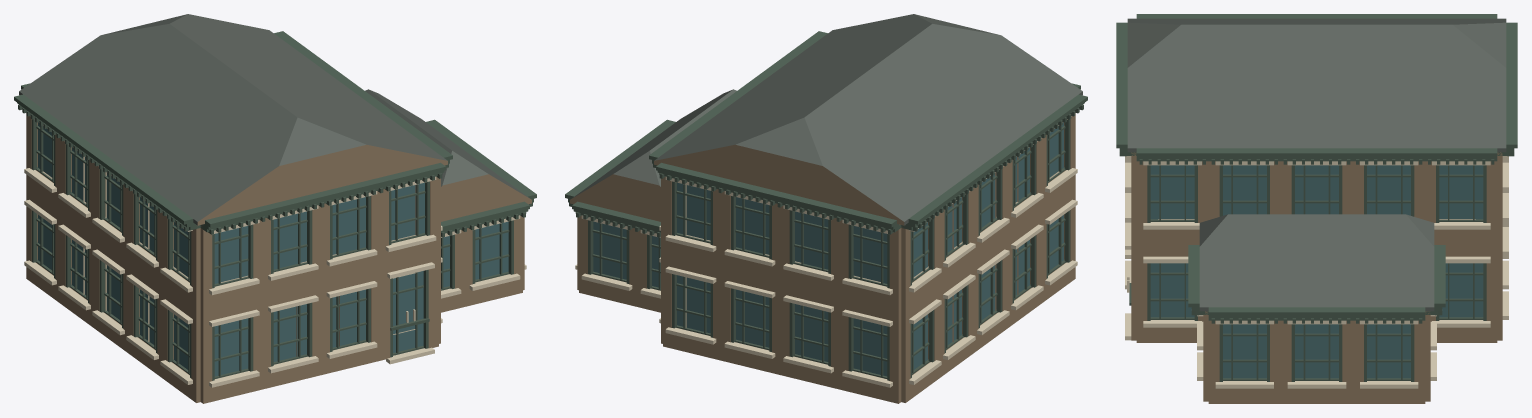
File: craftsman-house.glb
The picture shows the model from 3 angles, left to right: view 1: azimuth 30°, elevation 25°; view 2: azimuth 150°, elevation 25°; view 3: azimuth 270°, elevation 25°; orthographic projection. The views are drawn at different scales.
Visible parts, largest first — view 1: Roof main.001, Gable main.001, main/north/0/1250/wall.001, main/north/0/3750/wall.001, main/north/0/6250/wall.001, Gable wing, main/north/1/1250/wall, main/north/0/8750/wall.001, Roof wing, main/west/0/9000/wall, main/north/1/3750/wall, main/north/1/6250/wall (+76 smaller); view 2: Roof main.001, Gable main.001, main/south/0/1250/wall.001, main/south/0/3750/wall.001, main/south/0/6250/wall.001, main/south/0/8750/wall.001, Gable wing, main/south/1/1250/wall, Roof wing, main/west/0/1000/wall, main/south/1/3750/wall, main/south/1/6250/wall (+76 smaller); view 3: Roof main.001, Roof wing, wing/east/0/1667/wall, wing/east/0/8333/wall, wing/east/0/5000/wall, main/east/1/1000/wall, main/east/1/9000/wall, main/east/0/1000/wall, main/east/0/9000/wall, main/east/1/1000/glass, main/east/1/9000/glass, wing/east/0/5000/glass (+58 smaller).
Boxes of the visible parts, x1=… form: Roof main.001: x1=19, y1=14, x2=447, y2=225; Gable main.001: x1=197, y1=144, x2=447, y2=225; main/north/0/1250/wall.001: x1=200, y1=297, x2=262, y2=403; main/north/0/3750/wall.001: x1=262, y1=283, x2=321, y2=389; main/north/0/6250/wall.001: x1=321, y1=268, x2=379, y2=374; Gable wing: x1=441, y1=174, x2=531, y2=221; main/north/1/1250/wall: x1=200, y1=220, x2=262, y2=311; main/north/0/8750/wall.001: x1=380, y1=254, x2=438, y2=360; Roof wing: x1=365, y1=89, x2=529, y2=198; main/west/0/9000/wall: x1=162, y1=286, x2=200, y2=402; main/north/1/3750/wall: x1=262, y1=206, x2=321, y2=296; main/north/1/6250/wall: x1=321, y1=191, x2=379, y2=282; Roof main.001: x1=654, y1=14, x2=1082, y2=225; Gable main.001: x1=654, y1=144, x2=904, y2=225; main/south/0/1250/wall.001: x1=839, y1=297, x2=901, y2=403; main/south/0/3750/wall.001: x1=780, y1=283, x2=839, y2=389; main/south/0/6250/wall.001: x1=722, y1=268, x2=780, y2=374; main/south/0/8750/wall.001: x1=663, y1=254, x2=721, y2=360; Gable wing: x1=570, y1=174, x2=660, y2=221; main/south/1/1250/wall: x1=839, y1=220, x2=901, y2=311; Roof wing: x1=572, y1=89, x2=736, y2=198; main/west/0/1000/wall: x1=901, y1=286, x2=939, y2=402; main/south/1/3750/wall: x1=780, y1=206, x2=839, y2=296; main/south/1/6250/wall: x1=722, y1=191, x2=780, y2=282; Roof main.001: x1=1127, y1=18, x2=1506, y2=152; Roof wing: x1=1199, y1=214, x2=1434, y2=311; wing/east/0/1667/wall: x1=1353, y1=320, x2=1425, y2=403; wing/east/0/8333/wall: x1=1208, y1=320, x2=1280, y2=403; wing/east/0/5000/wall: x1=1281, y1=320, x2=1352, y2=403; main/east/1/1000/wall: x1=1425, y1=161, x2=1497, y2=244; main/east/1/9000/wall: x1=1136, y1=161, x2=1208, y2=244; main/east/0/1000/wall: x1=1430, y1=245, x2=1497, y2=342; main/east/0/9000/wall: x1=1136, y1=245, x2=1203, y2=342; main/east/1/1000/glass: x1=1439, y1=165, x2=1483, y2=219; main/east/1/9000/glass: x1=1150, y1=165, x2=1194, y2=219; wing/east/0/5000/glass: x1=1295, y1=324, x2=1338, y2=378.
Size of the model in its own units: 13.13 by 7.9 by 11.13.
